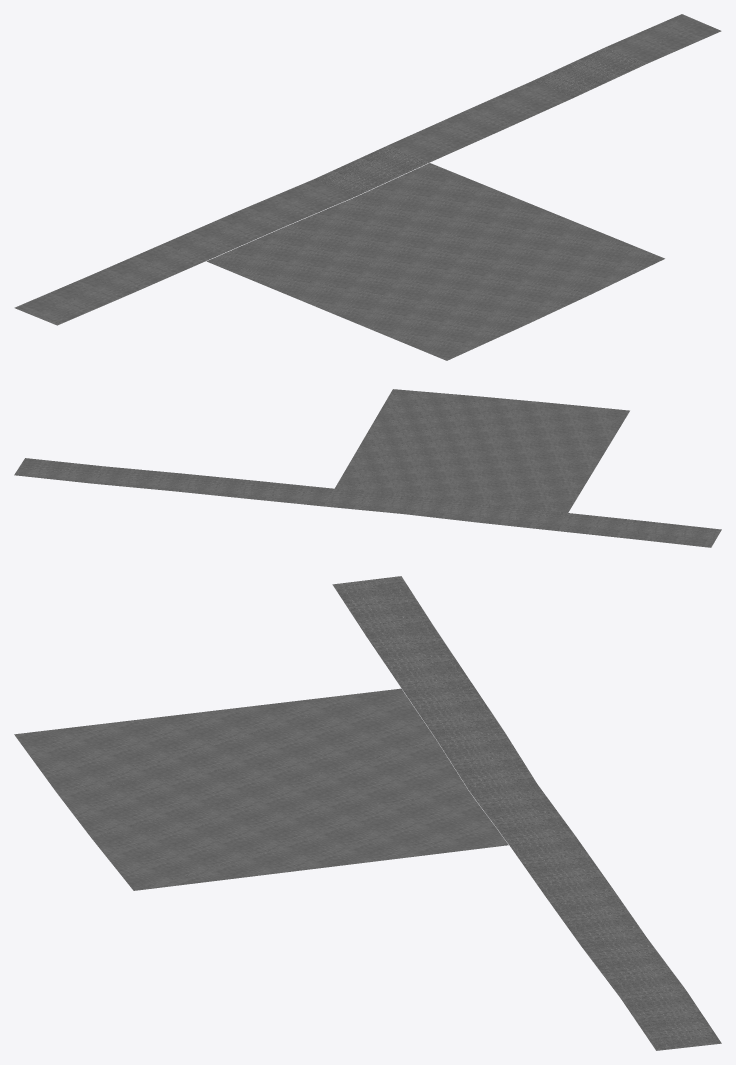
File: GSP_OLD_Road_and_Floor.FBX
3 renders of one model, top to bottom at view 1: azimuth 30°, elevation 25°; view 2: azimuth 150°, elevation 25°; view 3: azimuth 270°, elevation 25°, orthographic. The views are drawn at different scales.
Parts seen in each view (by area): view 1: GSP_OLD_FLOOR001, road_old005; view 2: GSP_OLD_FLOOR001, road_old005; view 3: GSP_OLD_FLOOR001, road_old005.
Boxes of the visible parts, box(x1,y1,x2,y2) form: GSP_OLD_FLOOR001: box(206, 163, 664, 360); road_old005: box(14, 14, 721, 325); GSP_OLD_FLOOR001: box(335, 389, 629, 512); road_old005: box(14, 458, 721, 547); GSP_OLD_FLOOR001: box(14, 688, 508, 890); road_old005: box(332, 576, 721, 1050).
Bounding box in the file's own units: 24244 × 11.17 × 15275.
1 material, 1 textured.
